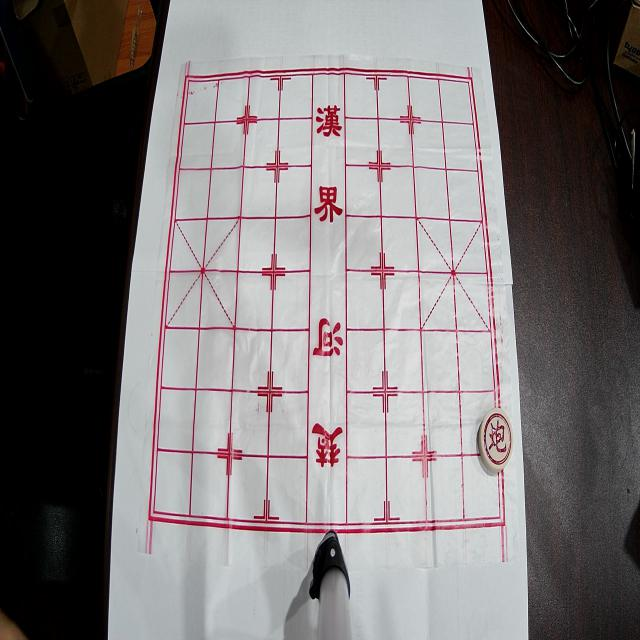red-cannon: (478, 408, 514, 472)
